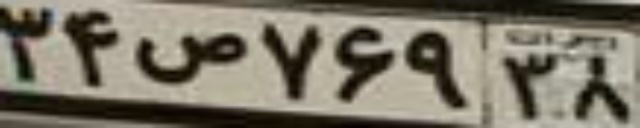3: (499, 50, 559, 120), (0, 5, 53, 81)
4: (61, 10, 121, 88)
6: (330, 24, 397, 102)
7: (259, 21, 324, 100)
8: (570, 56, 631, 122)
9: (403, 30, 466, 109)
saat: (131, 31, 246, 84)
